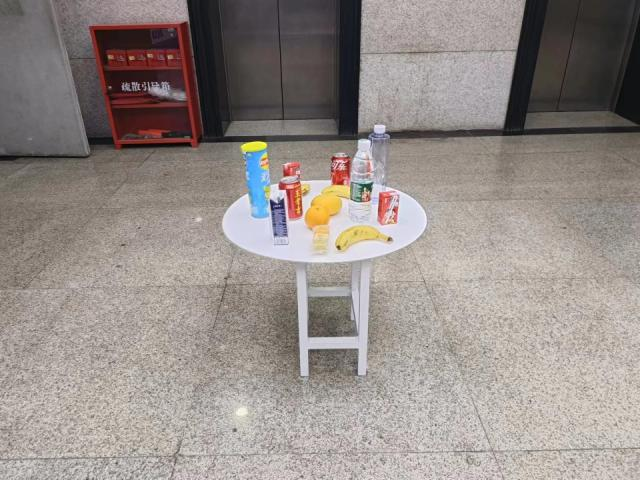Canned_drinks: (278, 175, 304, 221), (330, 151, 350, 187)
bottle: (349, 138, 375, 222), (370, 122, 390, 208)
cylinder: (240, 140, 273, 218)
drink_box: (268, 189, 292, 247), (379, 190, 400, 225), (284, 162, 301, 190)
